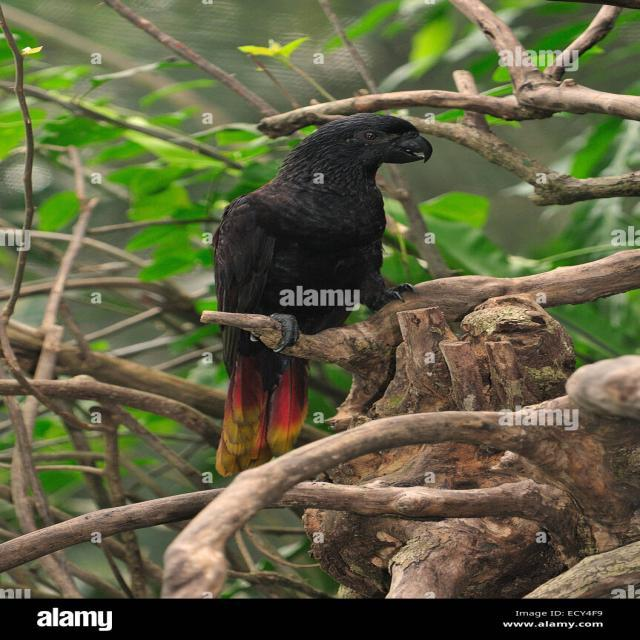Nuri Hitam: (180, 95, 457, 478)
